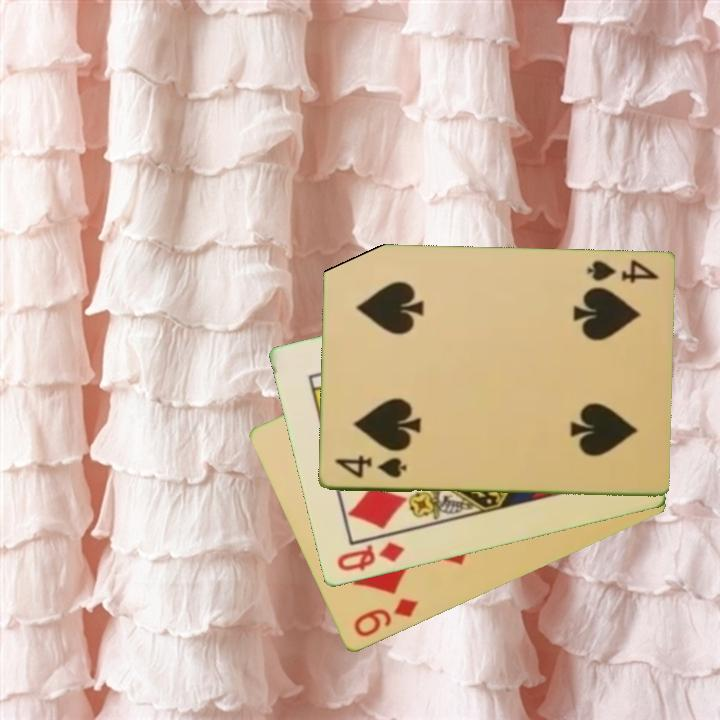4s: (583, 256, 661, 286), (331, 453, 409, 481)
9d: (350, 595, 421, 641)
Qd: (333, 538, 407, 575)
